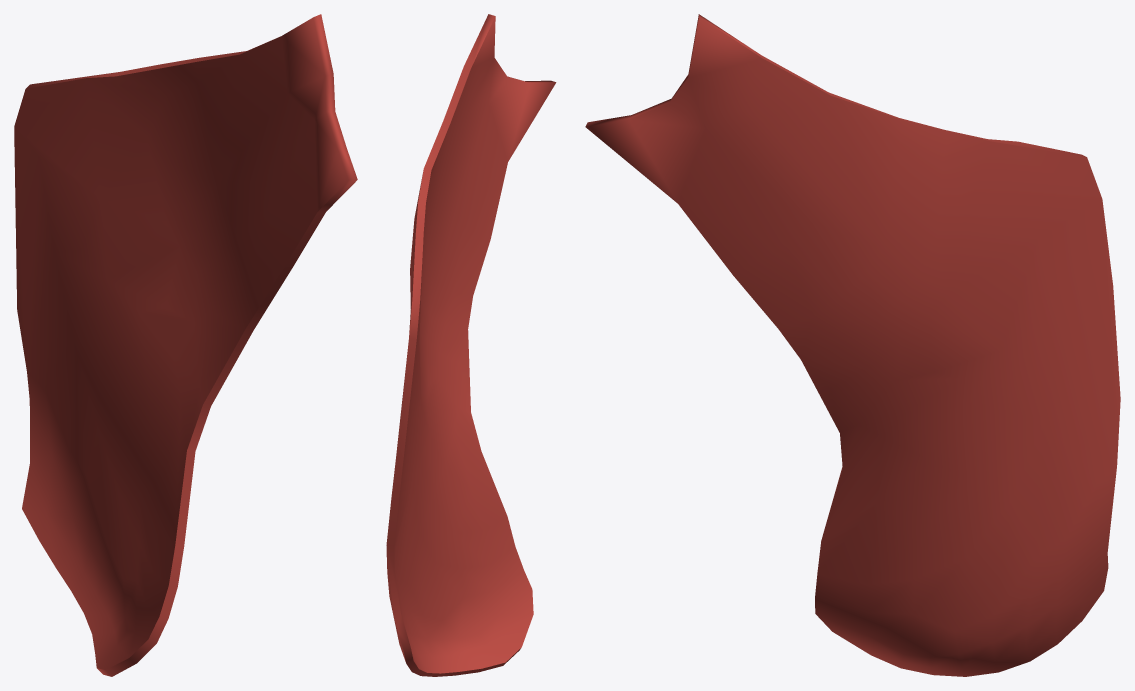
File: musculos-flexor-retinaculum-of-ankle-r.glb
The picture shows the model from 3 angles, left to right: view 1: azimuth 30°, elevation 25°; view 2: azimuth 150°, elevation 25°; view 3: azimuth 270°, elevation 25°; orthographic projection. The views are drawn at different scales.
Visible parts, largest first — view 1: Flexor retinaculum of ankle.r; view 2: Flexor retinaculum of ankle.r; view 3: Flexor retinaculum of ankle.r.
Part boxes in pixels (<box>): Flexor retinaculum of ankle.r: <box>14,14,357,676</box>; Flexor retinaculum of ankle.r: <box>386,14,556,676</box>; Flexor retinaculum of ankle.r: <box>585,14,1120,676</box>.
Bounding box in the file's own units: 0.016 × 0.0795 × 0.0544.
